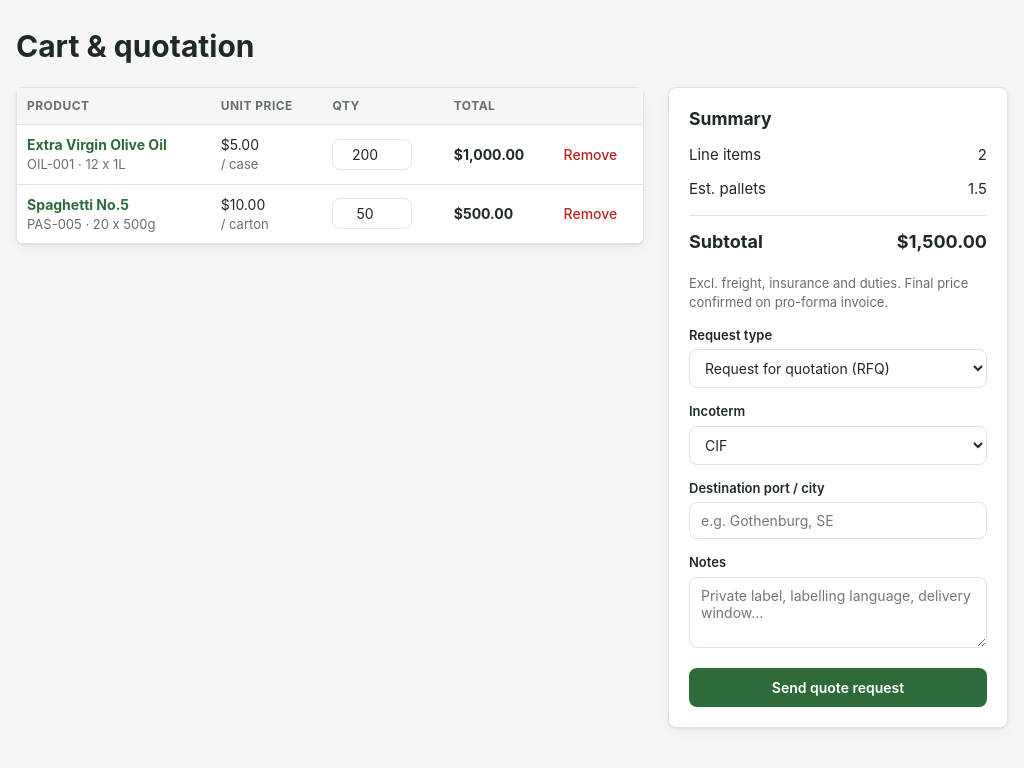
Test: Cart page › request form › shows "Order placed" after submitting an order
Select "Place order" in the dropdown below "Request type" at point(838, 369), box [689,349,987,388]
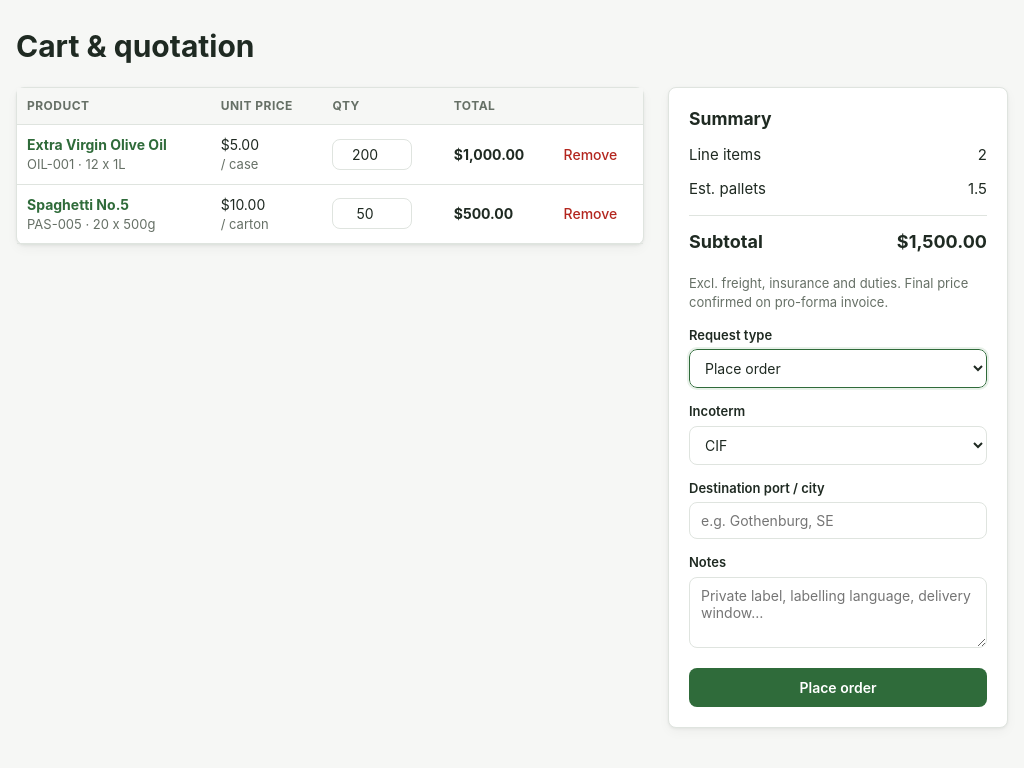
Type "Rotterdam, NL" into the field with placeholder "e.g. Gothenburg, SE" at point(838, 521), box [689,502,987,539]
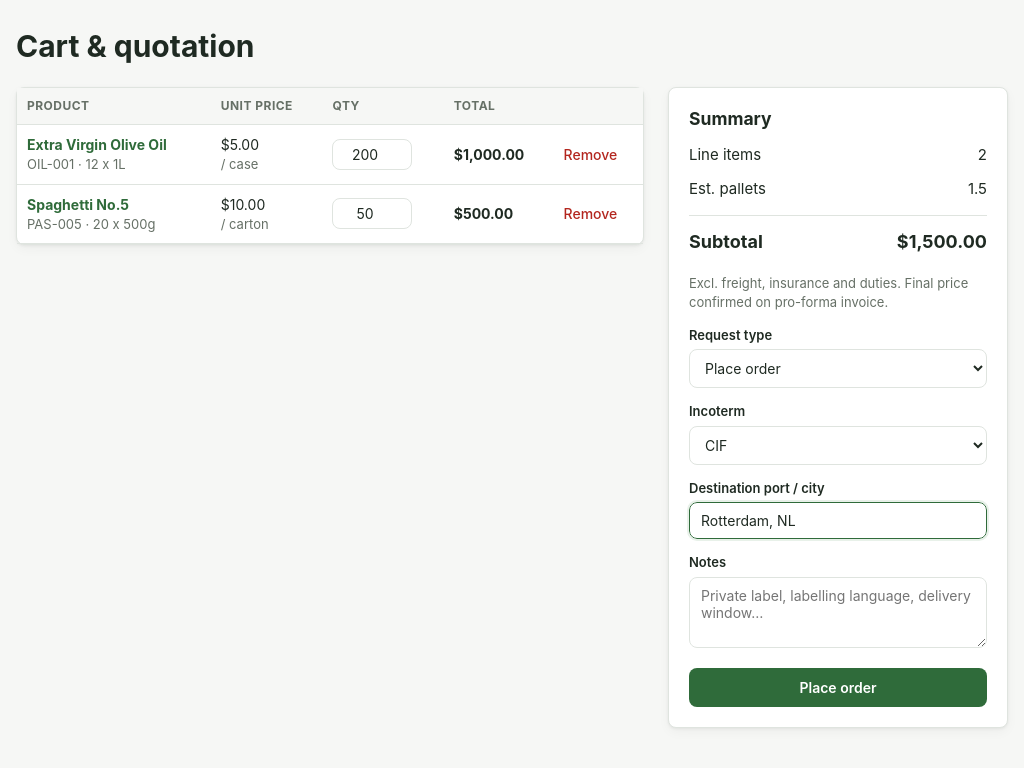
Click the button "Place order" at point(838, 688), box [689,668,987,707]
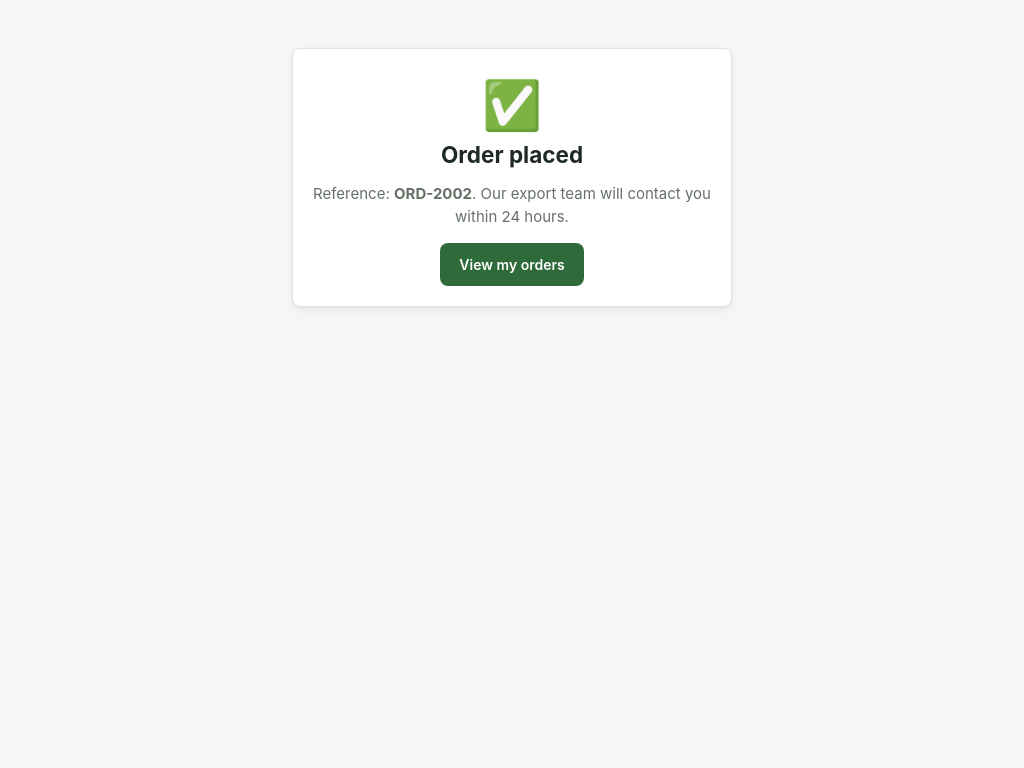
Expected: the heading "Order placed" is shown, [441,141,583,168]
